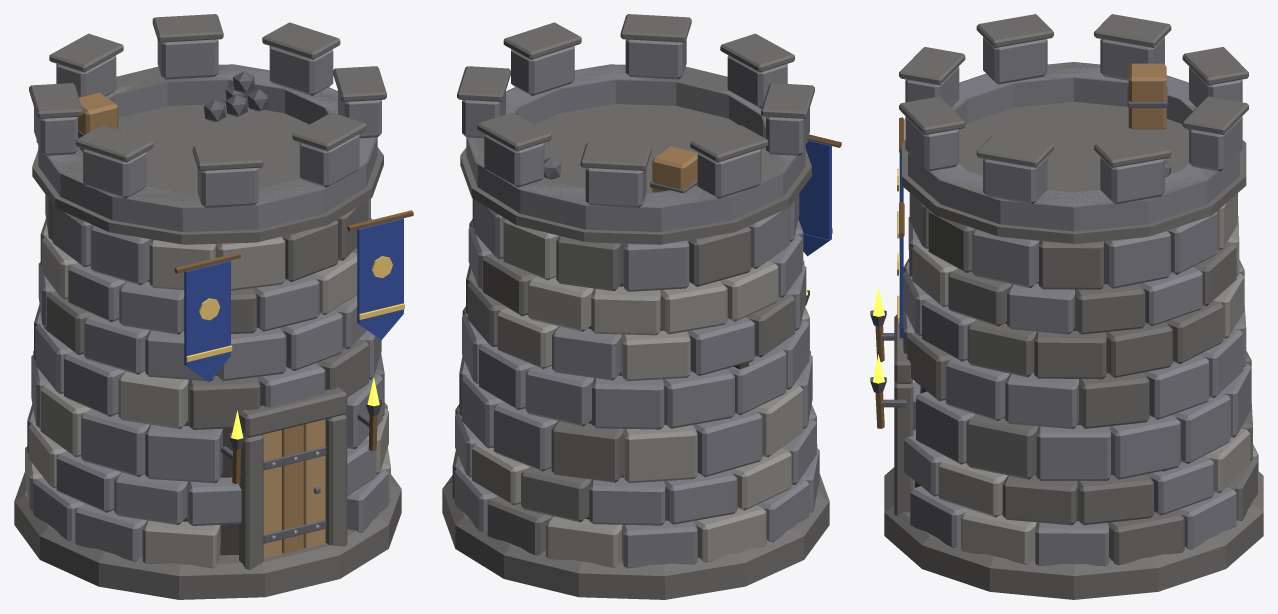
File: cannon_tower_3.glb
3 views of the same model, side by side, from view 1: azimuth 30°, elevation 25°; view 2: azimuth 150°, elevation 25°; view 3: azimuth 270°, elevation 25° (orthographic).
Parts seen in each view (by area): view 1: CannonTower; view 2: CannonTower; view 3: CannonTower.
Part boxes in pixels (x1,y1,x2,y2): CannonTower: [14, 14, 413, 599]; CannonTower: [442, 14, 841, 599]; CannonTower: [870, 14, 1263, 599].
Bounding box in the file's own units: 3.7 × 4.52 × 3.74.
